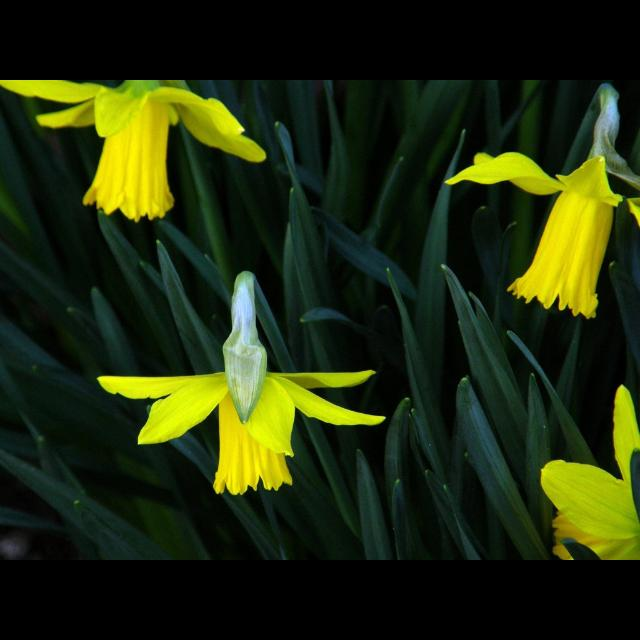Flower: (96, 271, 392, 497), (447, 80, 638, 322), (0, 80, 266, 220), (536, 381, 640, 559)
